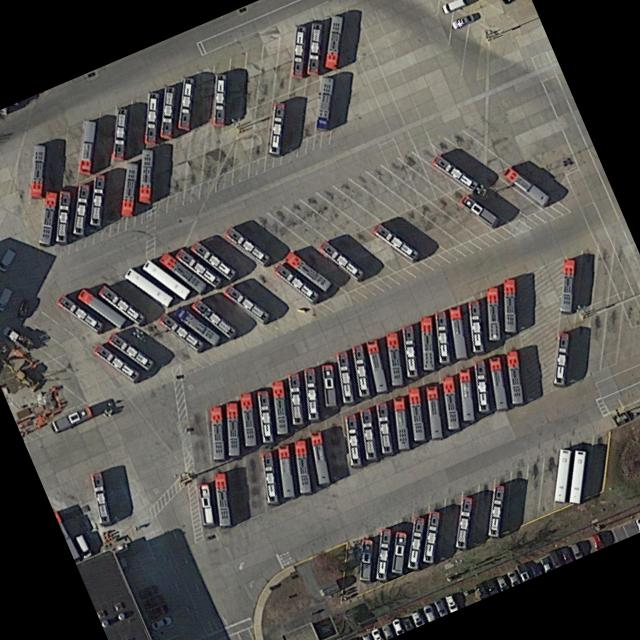large-vehicle: (189, 238, 239, 281), (121, 265, 173, 306), (280, 251, 333, 291), (173, 245, 222, 288), (500, 165, 550, 207), (188, 297, 238, 339), (317, 237, 365, 280), (91, 341, 141, 382), (140, 257, 190, 298), (95, 282, 145, 323), (75, 286, 126, 326), (225, 223, 272, 266), (158, 249, 205, 292), (157, 310, 203, 353), (271, 261, 318, 303), (371, 222, 420, 262), (219, 284, 269, 323), (104, 330, 154, 369), (173, 306, 220, 347), (55, 293, 104, 330), (432, 150, 478, 189), (458, 193, 503, 226), (89, 470, 113, 525), (307, 428, 330, 484), (49, 403, 93, 432), (86, 171, 108, 226), (323, 14, 344, 68), (75, 118, 95, 173), (484, 484, 505, 536), (505, 347, 524, 404), (366, 337, 386, 391), (398, 322, 417, 378), (552, 447, 571, 502), (276, 442, 295, 497), (70, 180, 89, 235), (37, 187, 55, 245), (421, 510, 441, 562), (406, 516, 426, 568), (406, 386, 425, 440), (294, 436, 312, 492), (137, 148, 155, 204), (374, 400, 393, 453), (342, 414, 361, 467), (259, 450, 278, 503), (555, 258, 574, 311), (269, 379, 287, 434), (449, 303, 467, 358), (306, 20, 324, 75), (118, 160, 136, 215), (315, 74, 333, 129), (417, 317, 436, 369), (350, 343, 368, 397), (489, 355, 507, 409), (177, 77, 195, 131), (157, 84, 175, 138), (111, 105, 129, 159), (568, 448, 586, 502), (373, 526, 391, 579), (266, 102, 284, 155), (142, 91, 160, 144), (455, 496, 473, 548), (457, 366, 474, 421), (358, 403, 375, 458), (387, 330, 404, 384), (256, 388, 273, 442), (552, 331, 569, 385), (393, 396, 410, 450), (467, 296, 483, 352), (289, 25, 306, 77), (238, 389, 254, 444), (473, 356, 489, 411), (28, 143, 44, 198), (53, 190, 70, 241), (303, 365, 319, 419), (502, 274, 516, 333), (443, 373, 458, 428), (427, 383, 442, 438), (336, 348, 351, 402), (388, 530, 407, 572), (215, 472, 230, 525), (212, 73, 227, 125), (209, 404, 223, 459), (225, 398, 238, 456), (435, 307, 448, 364), (288, 371, 301, 424), (320, 362, 334, 406), (358, 538, 373, 579), (485, 285, 496, 340), (198, 482, 212, 524), (72, 532, 92, 557), (0, 246, 17, 271), (0, 288, 13, 311)
small-vehicle: (0, 322, 30, 349), (450, 12, 475, 30), (147, 613, 172, 630), (512, 560, 532, 581), (101, 610, 125, 627), (441, 0, 466, 13), (409, 607, 425, 627), (432, 596, 447, 617), (146, 603, 168, 617), (420, 602, 436, 621), (547, 547, 562, 567), (143, 593, 164, 607), (505, 567, 520, 586), (443, 593, 458, 612), (390, 616, 405, 635), (494, 573, 509, 591), (473, 581, 488, 599), (538, 554, 553, 572), (558, 545, 573, 563), (568, 541, 583, 559), (137, 583, 156, 597), (368, 625, 385, 640), (380, 621, 394, 639), (590, 532, 604, 550), (401, 613, 414, 630), (486, 576, 498, 594), (360, 632, 372, 640), (634, 516, 640, 532)
